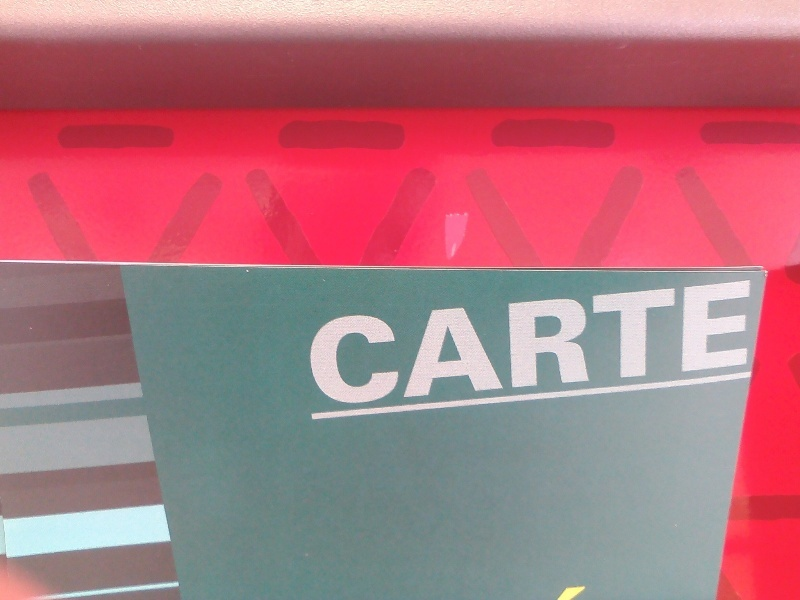text: (321, 279, 336, 411), (337, 279, 352, 411), (353, 279, 368, 411), (369, 279, 384, 411), (385, 279, 400, 411), (401, 279, 416, 411), (417, 279, 432, 411), (433, 279, 448, 411), (449, 279, 464, 411), (465, 279, 480, 411), (481, 279, 496, 411), (497, 279, 512, 411), (513, 279, 528, 411), (529, 279, 544, 411), (545, 279, 560, 411), (561, 279, 576, 411), (577, 279, 592, 411), (593, 279, 608, 411), (609, 279, 624, 411), (625, 279, 640, 411), (641, 279, 656, 411), (657, 279, 672, 411), (673, 279, 688, 411), (689, 279, 704, 411), (705, 279, 720, 411), (721, 279, 736, 411), (737, 279, 752, 411), (308, 279, 320, 411)
